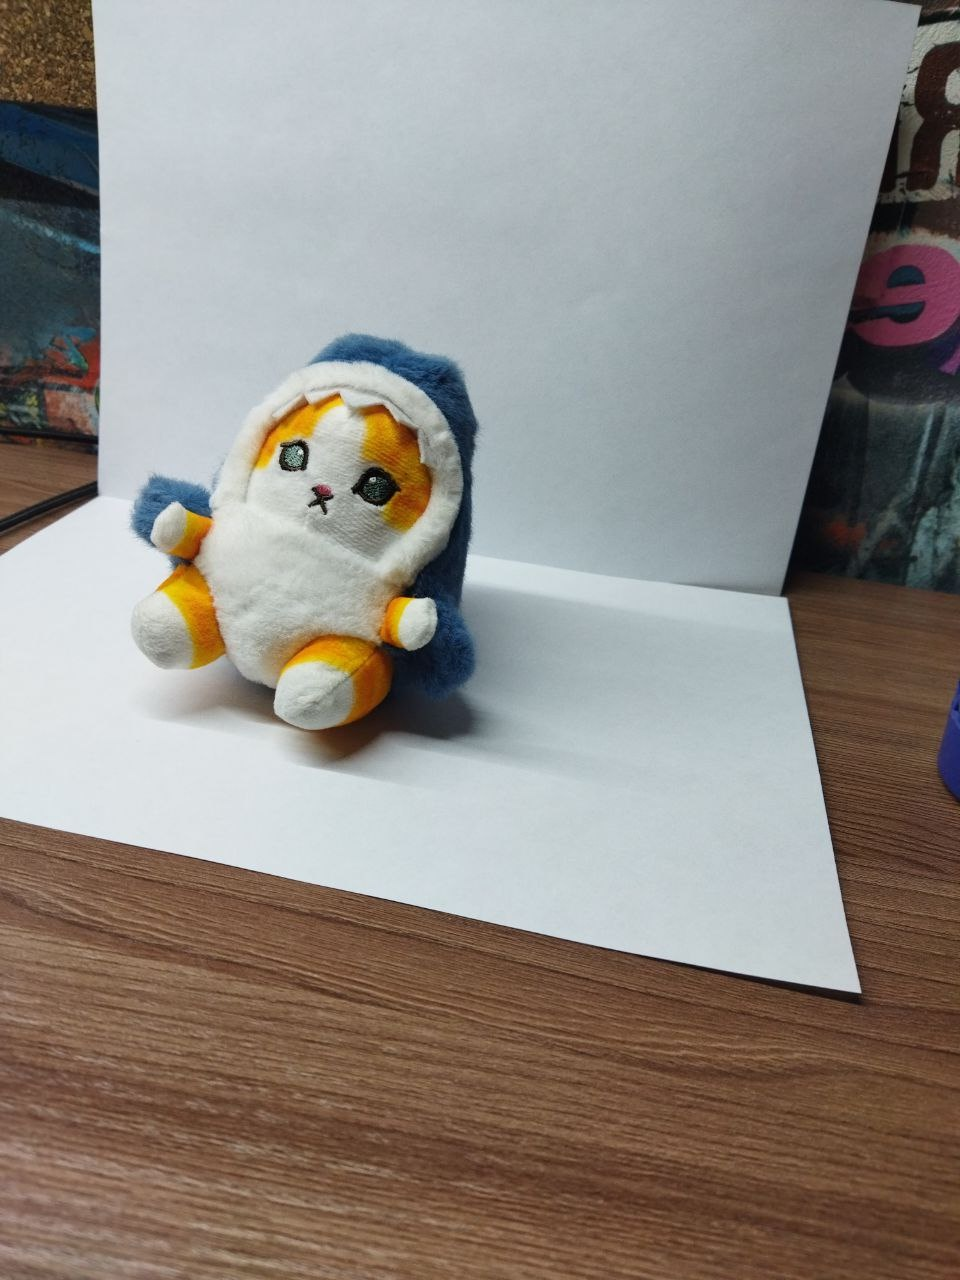Snark Cat: (129, 331, 473, 735)
